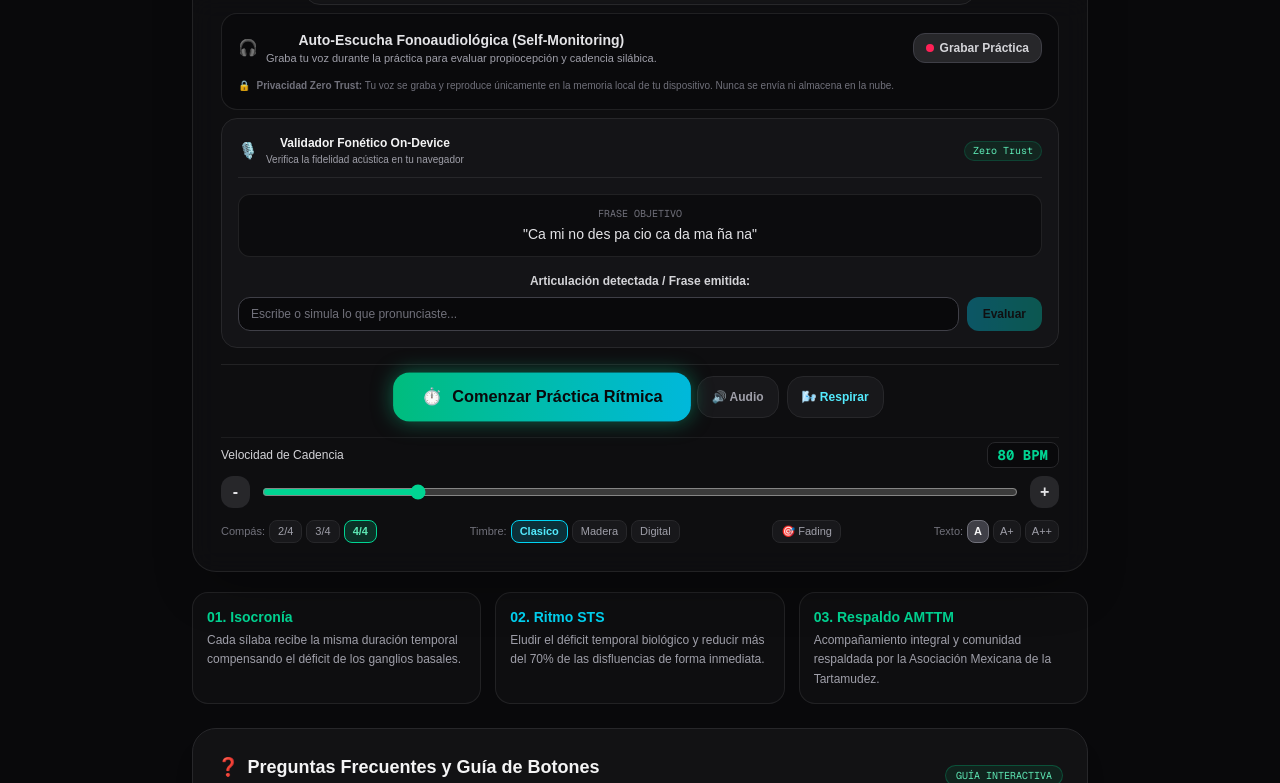
Test: Home Page - Unit Tests › debe detener la ejecución de la técnica previa al cambiar de técnica fonoaudiológica
(page scrolled)
Iniciar la práctica rítmica de la técnica actual (STS)
Click the button "⏱️ Comenzar Práctica Rítmica": [543, 397] box [394,373,692,422]
(page scrolled)
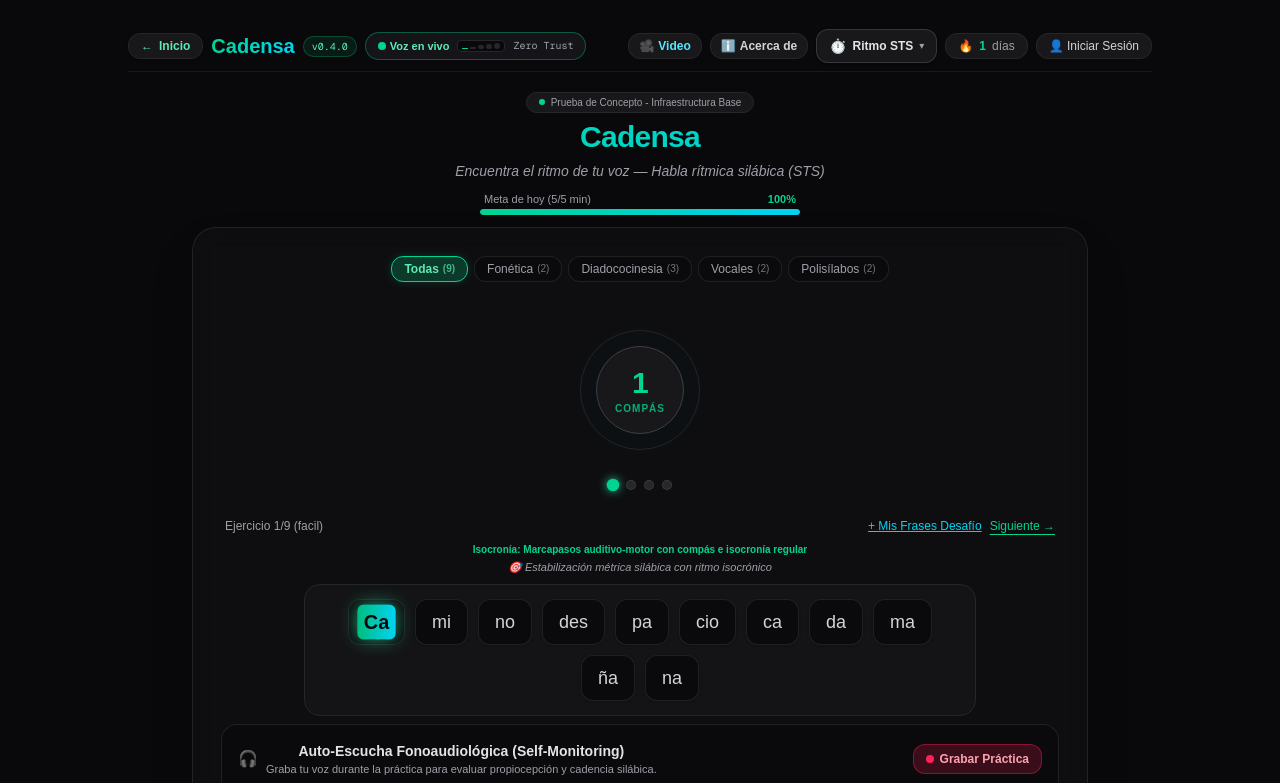
Abrir selector y cambiar a otra técnica (ej. Habla Prolongada y Fonación Continua)
Click the button titled "cambiar técnica clínica": [877, 46] box [816,29,937,63]
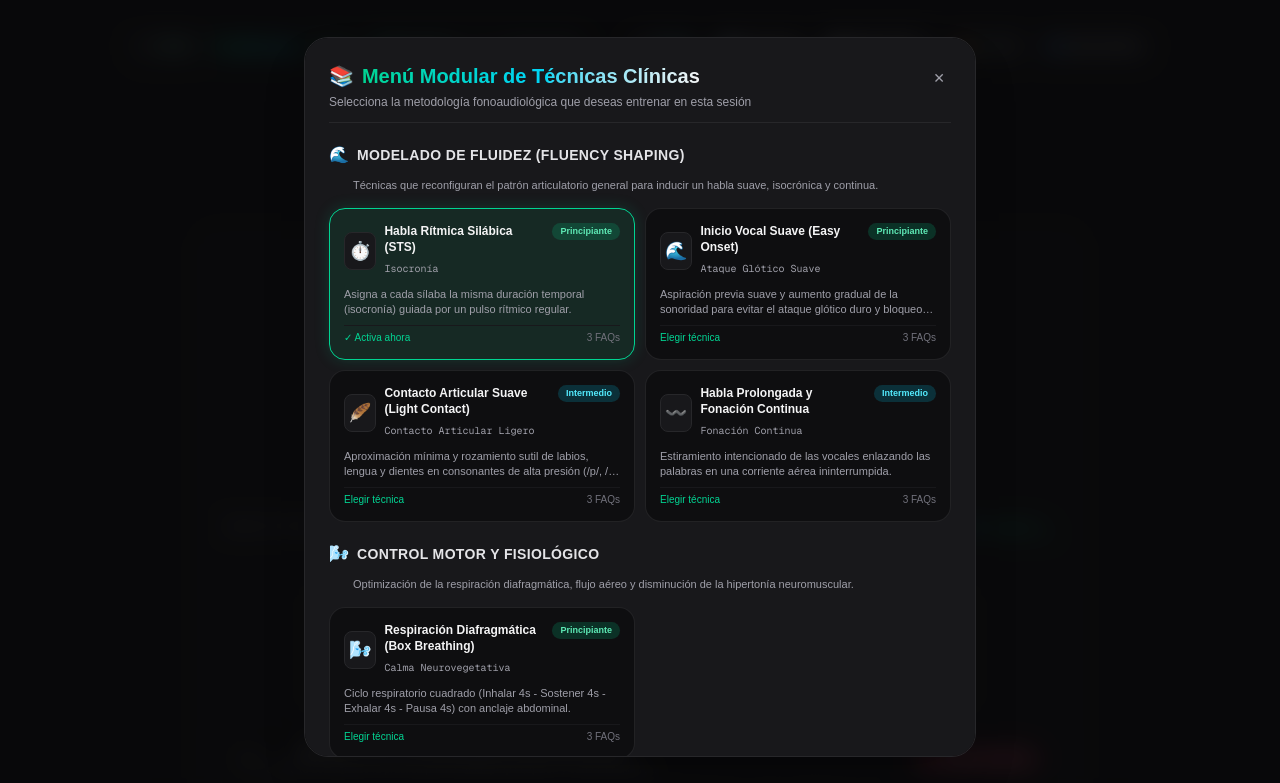
Click the text "Habla Prolongada y Fonación Continua": [756, 401] box [700,386,812,416]
(page scrolled)
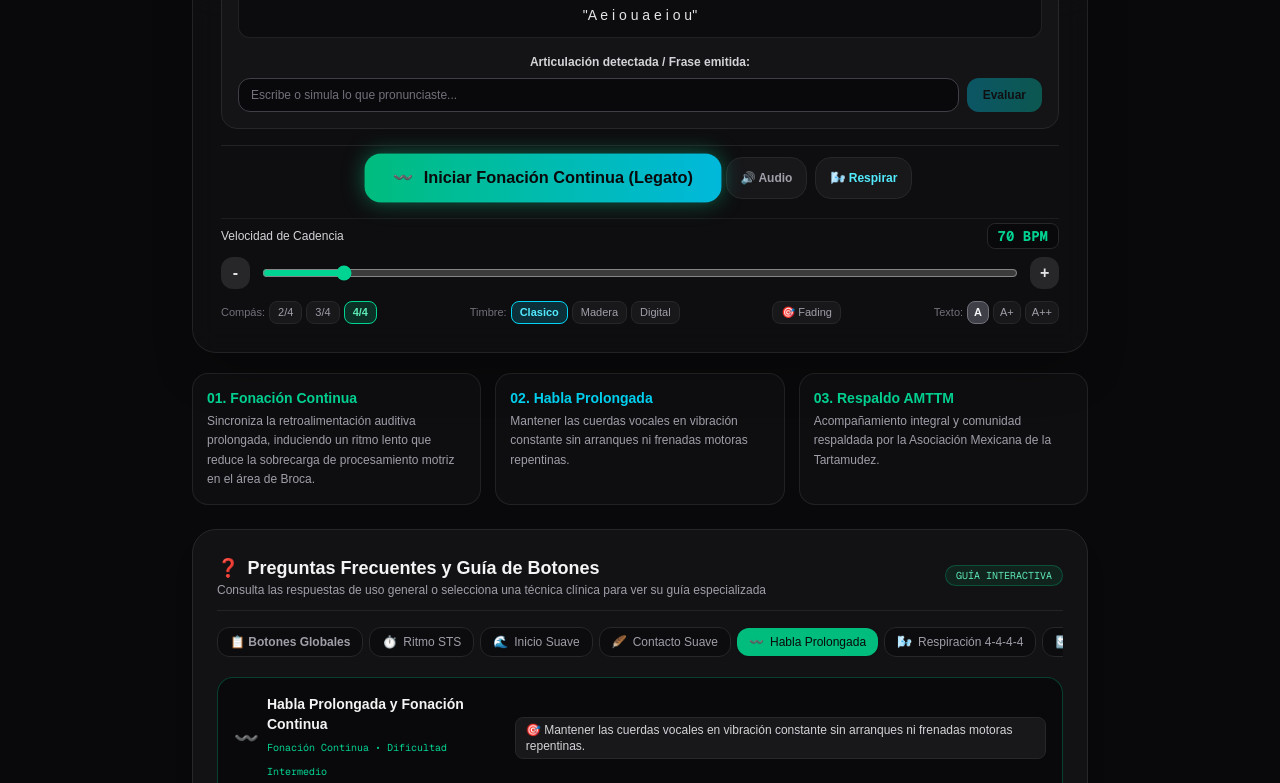
Now the button "〰️ Iniciar Fonación Continua (Legato)" is shown, box [364,154,721,203]
Now the text "01. Fonación Continua" is shown, box [207,390,357,406]
